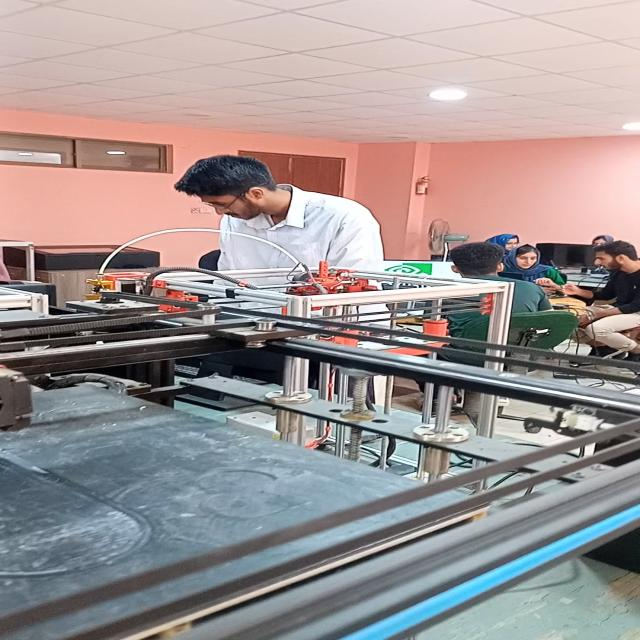dress: (194, 185, 400, 418)
glasses: (198, 199, 234, 212)
